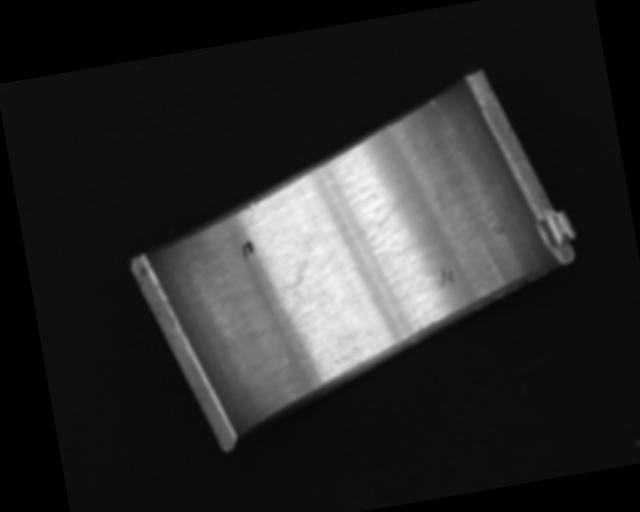blot: (272, 254, 324, 313), (240, 237, 256, 261)
bruise: (436, 265, 456, 290), (248, 201, 258, 211)
nick: (360, 190, 421, 244), (429, 97, 442, 112)
